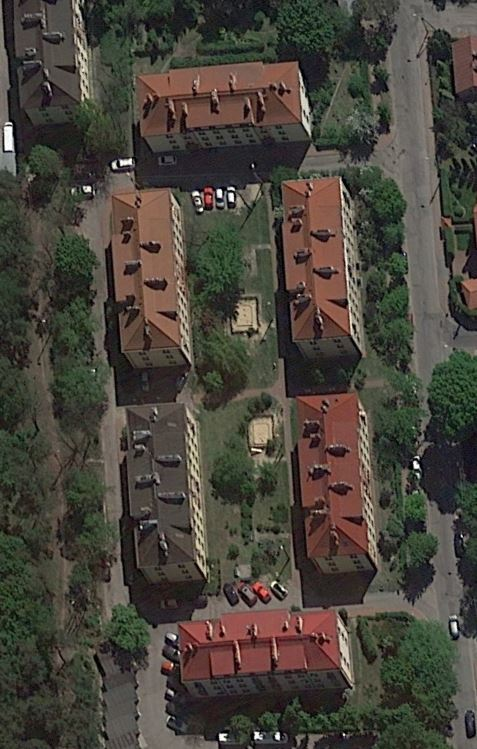block of flats: (134, 59, 316, 155), (105, 188, 196, 379), (120, 399, 210, 587), (279, 174, 369, 362), (176, 606, 353, 700), (290, 387, 378, 575), (3, 1, 94, 128)
